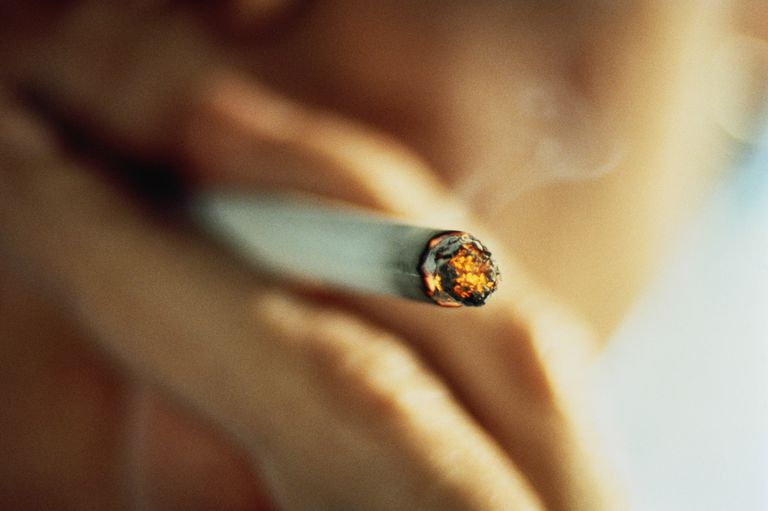cigarette: (192, 191, 504, 328)
